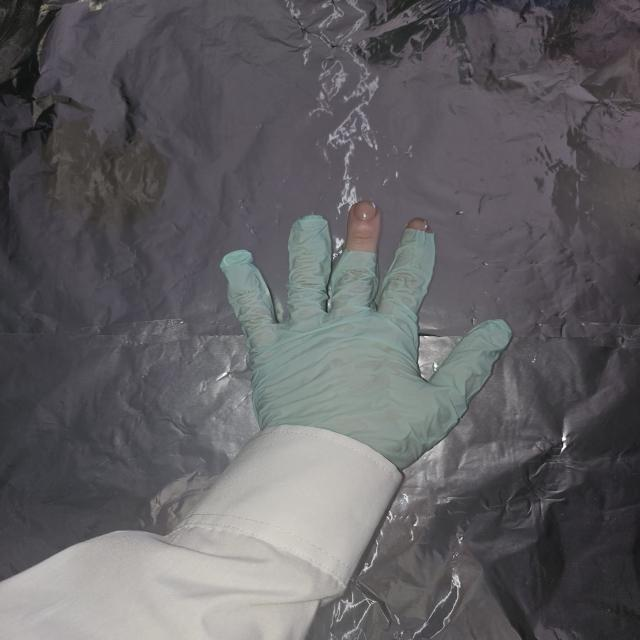gloves_damaged: (220, 198, 512, 480)
